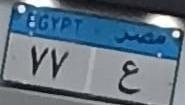7: (51, 47, 70, 82), (29, 45, 48, 77)
ain: (115, 60, 143, 97)
